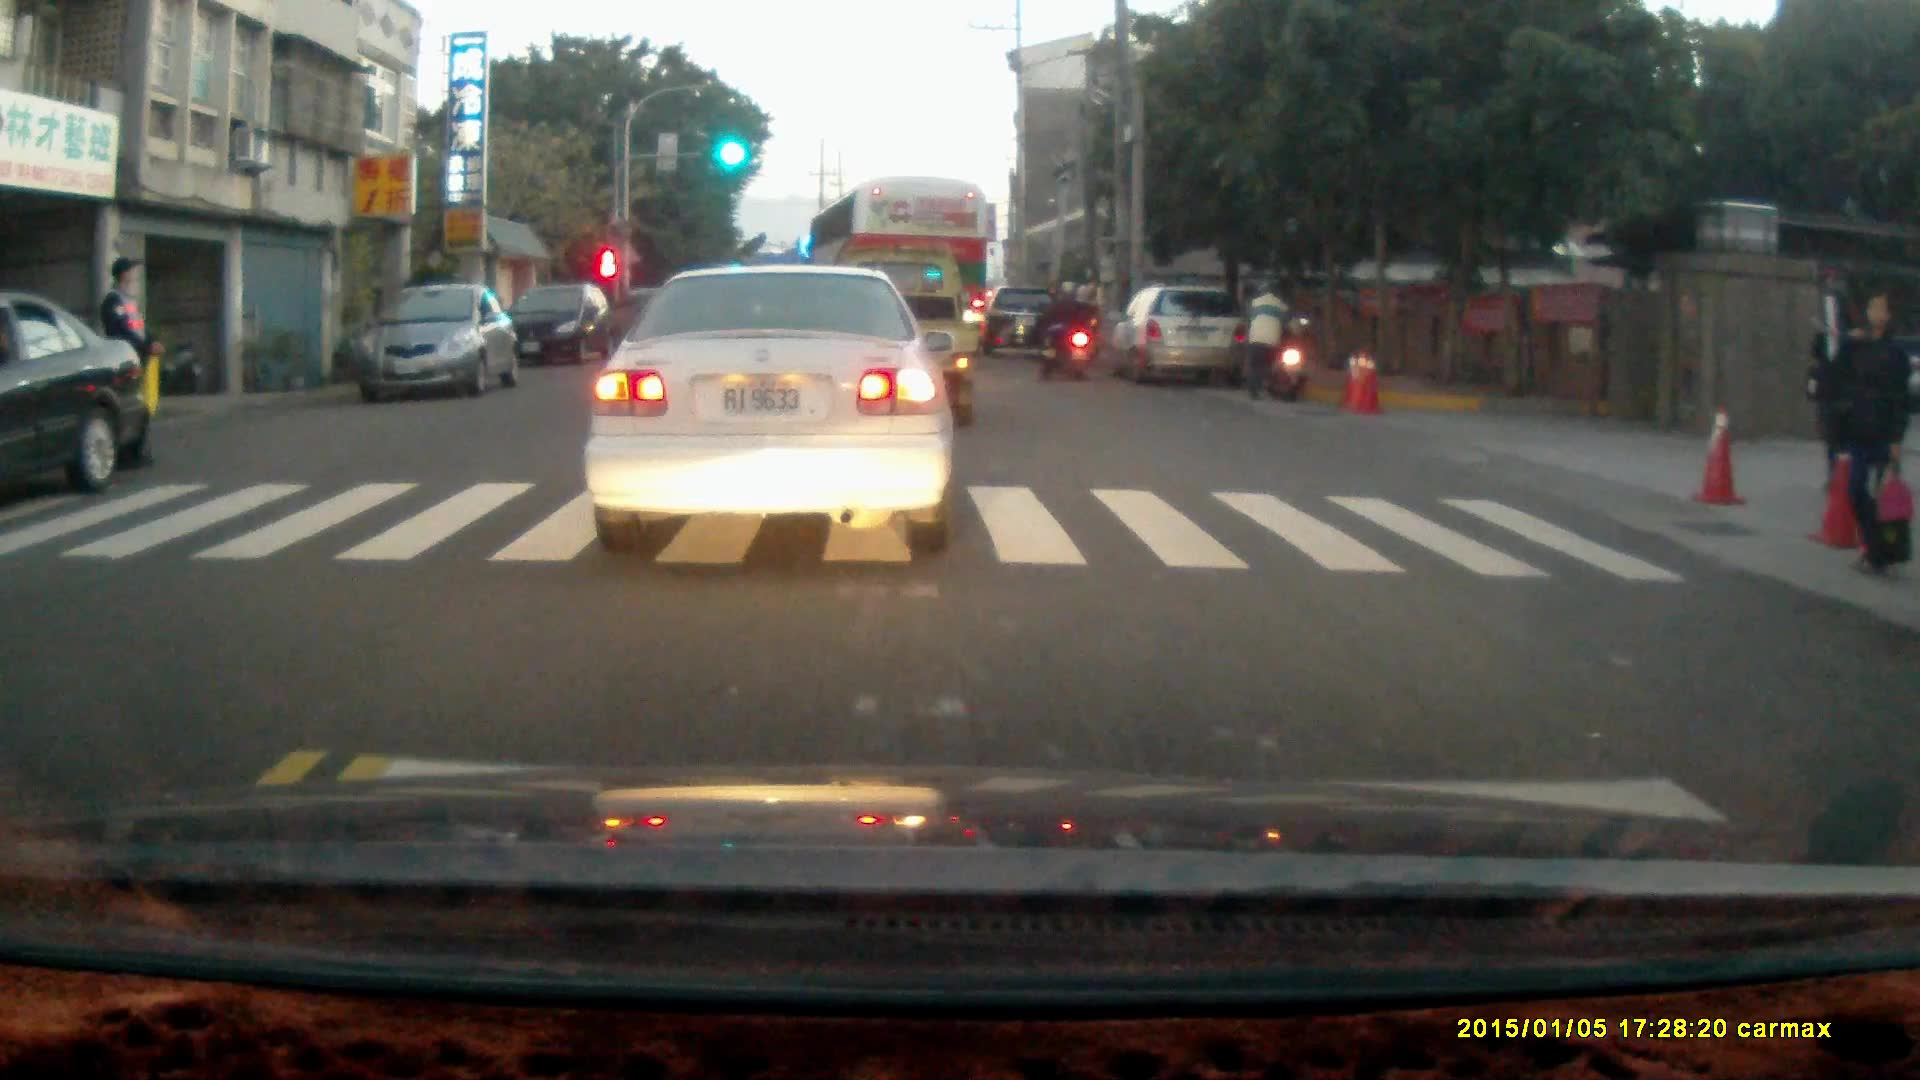pedestrian: (1825, 293, 1906, 575), (97, 255, 161, 472), (1808, 287, 1858, 491), (1242, 280, 1289, 403)
rider: (1034, 275, 1092, 384)
vehicle: (578, 261, 956, 555), (806, 175, 991, 384), (2, 292, 151, 507), (354, 286, 518, 408), (1116, 287, 1250, 389), (505, 282, 621, 368), (982, 286, 1064, 356)
